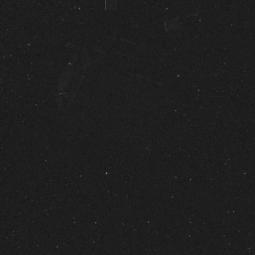proba_2: (59, 0, 210, 109)
